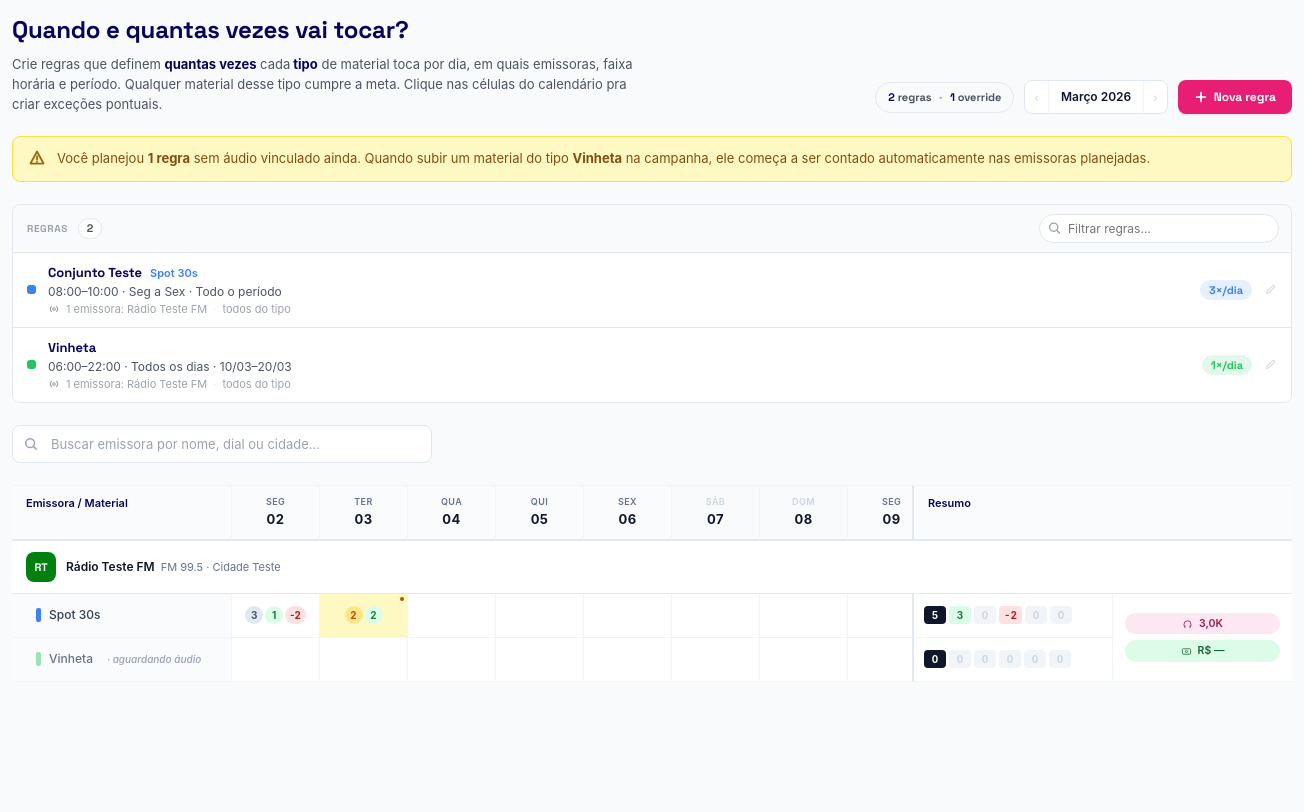
Test: DistributionStep — ajuste de células › + numa célula com regra única só guarda rascunho; Descartar volta ao valor do servidor
Expected: the heading "Quando e quantas vezes vai tocar?" is shown, [12,14,409,45]
Hover over the element showing "3 1 -2": (276, 616) [232,594,320,638]
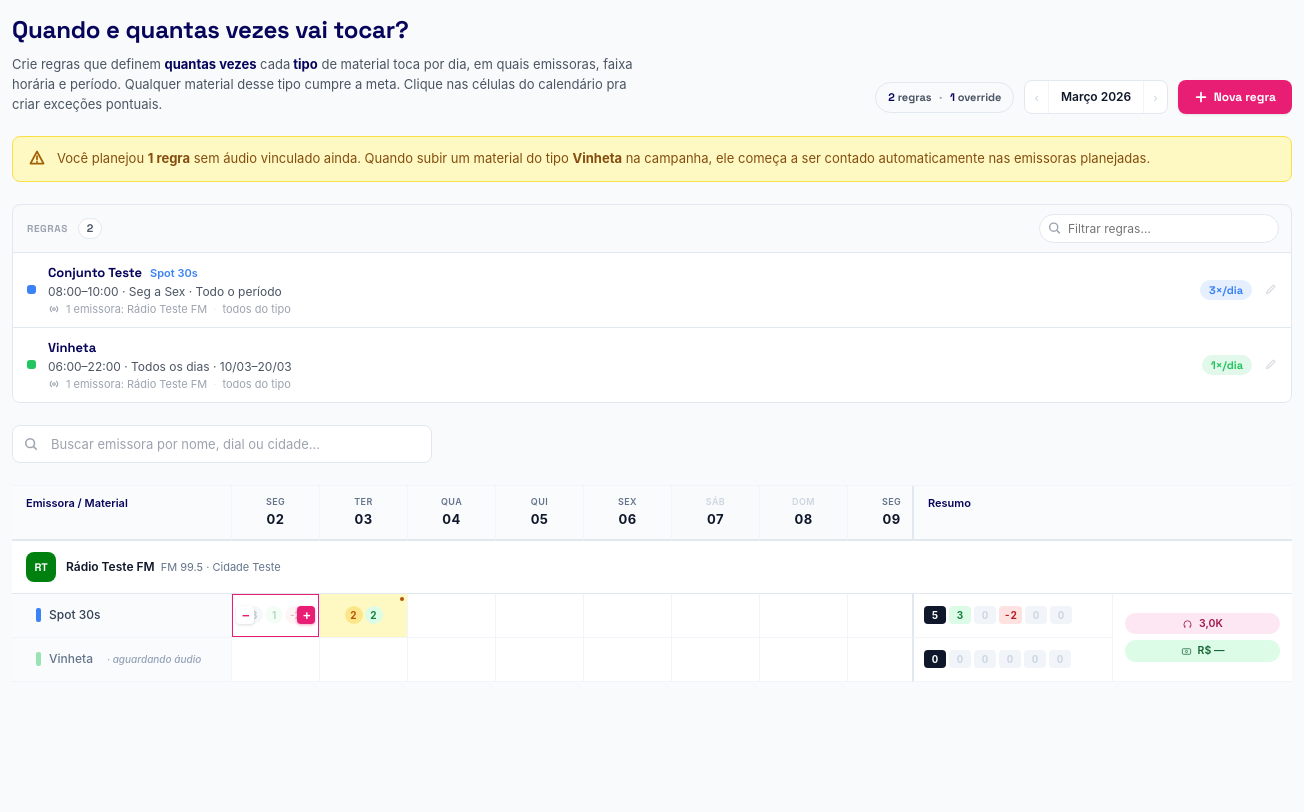
Click the button named "Aumentar": (306, 615) [297,606,315,624]
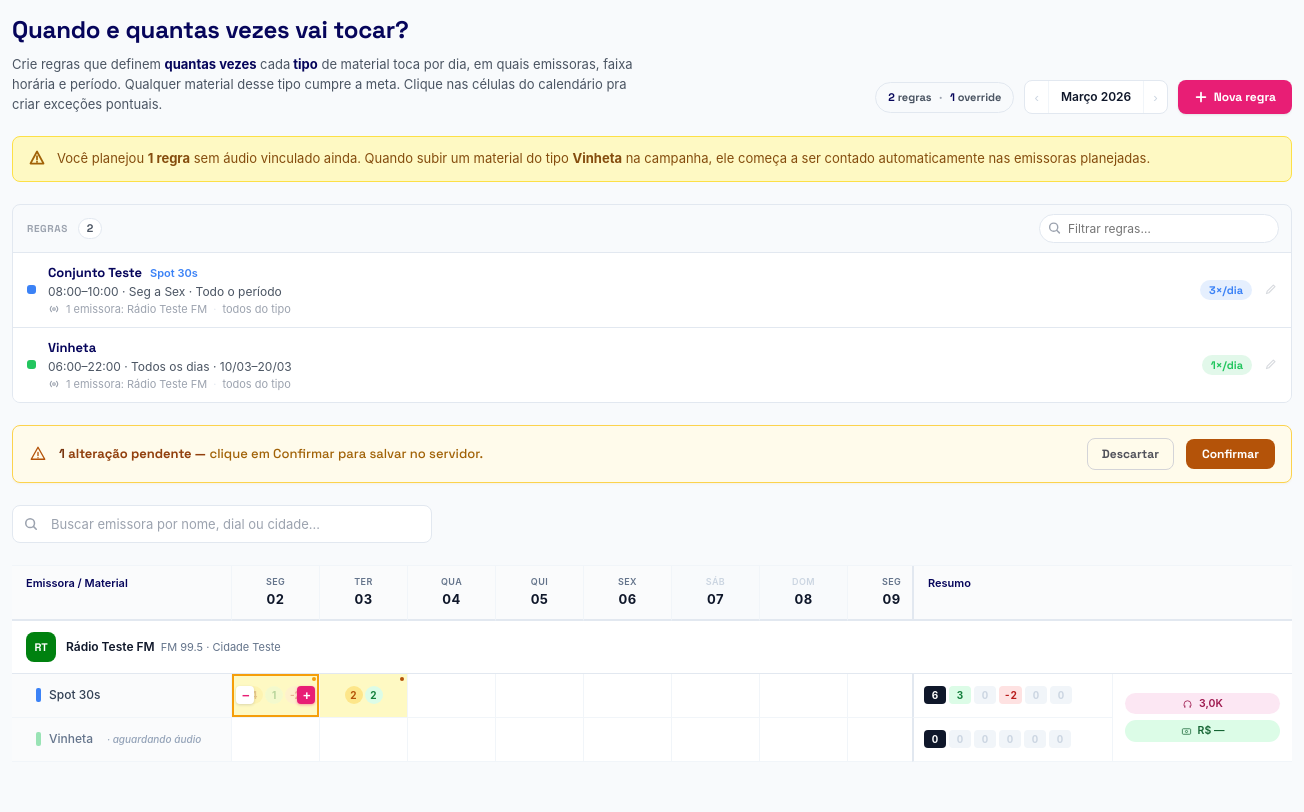
Expected: the text "alteração pendente" is shown, [68,445,192,462]
Expected: the element titled "Spot 30s · 2026-03-02" shows "4", [251,689,258,701]
Click the button "Descartar": (1130, 454) [1087,438,1174,470]
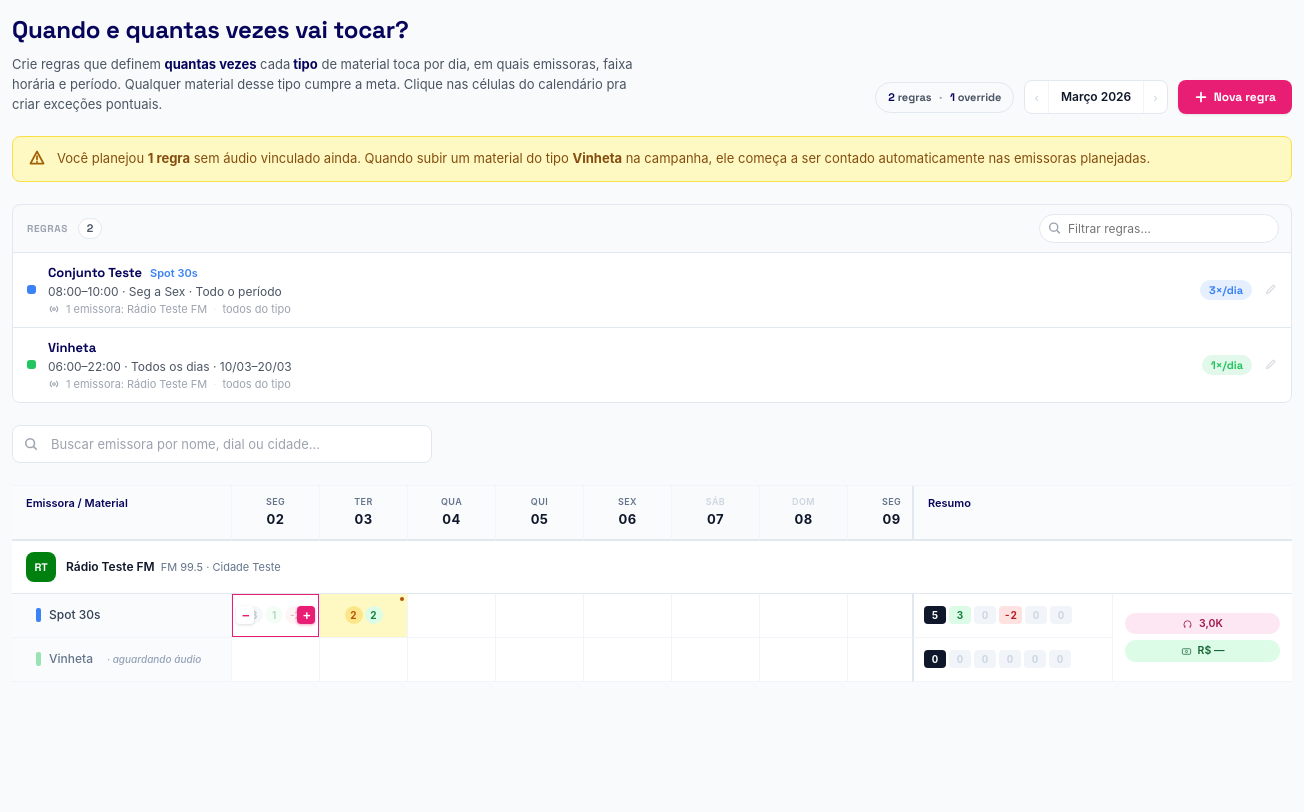
Expected: the text "alteração pendente" is gone
Expected: the element titled "Spot 30s · 2026-03-02" is shown, [251,609,257,621]
